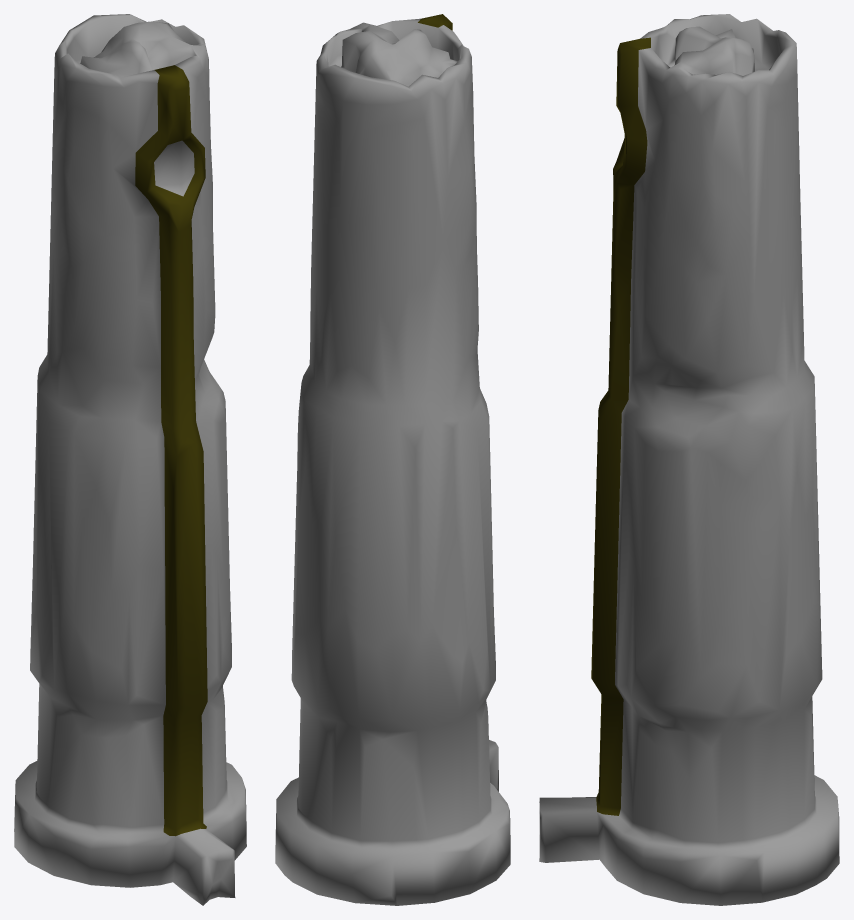
File: Kelpi_Tower.FBX
3 renders of one model, left to right at view 1: azimuth 30°, elevation 25°; view 2: azimuth 150°, elevation 25°; view 3: azimuth 270°, elevation 25°, orthographic. The views are drawn at different scales.
Visible parts, largest first — view 1: Kelpi_Centire; view 2: Kelpi_Centire; view 3: Kelpi_Centire.
Part boxes in pixels (box(x1,y1,x2,y2)): Kelpi_Centire: box(14, 14, 246, 905); Kelpi_Centire: box(275, 14, 510, 905); Kelpi_Centire: box(539, 14, 839, 905).
Bounding box in the file's own units: 133 × 502 × 165.
